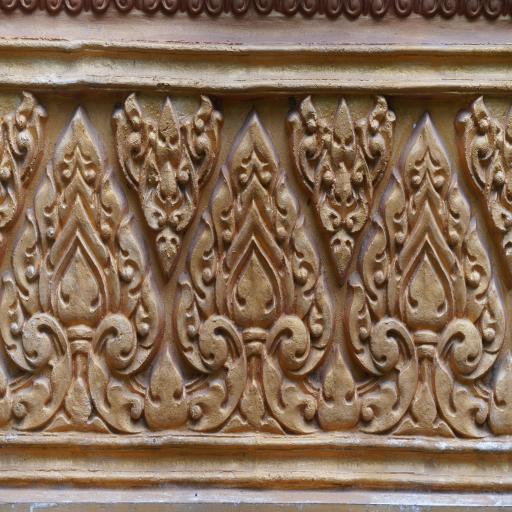lua: (162, 102, 340, 436), (0, 102, 173, 434), (343, 110, 512, 449), (107, 80, 241, 279), (284, 70, 404, 254), (452, 88, 512, 296), (0, 89, 44, 290)
